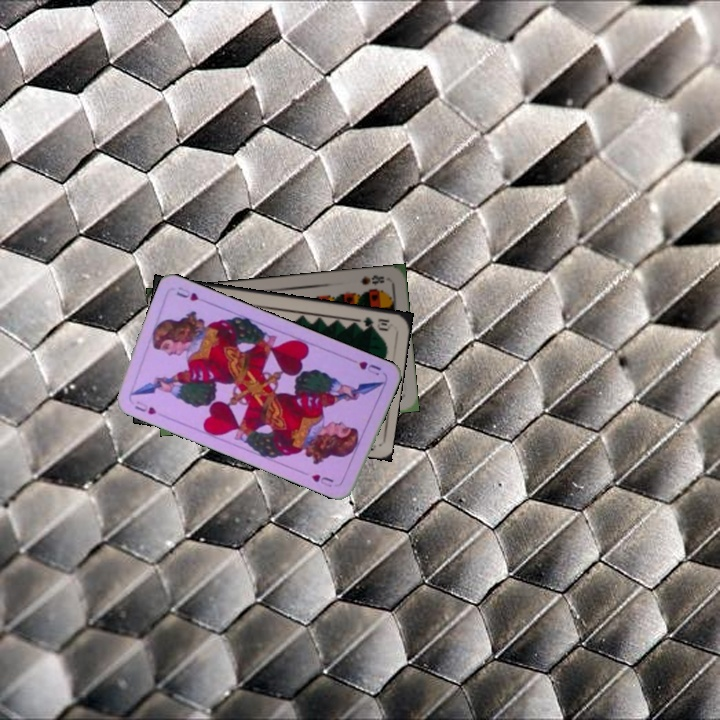G10: (359, 313, 392, 333)
HU: (355, 357, 384, 378), (131, 397, 159, 417)
S8: (356, 271, 387, 288)
